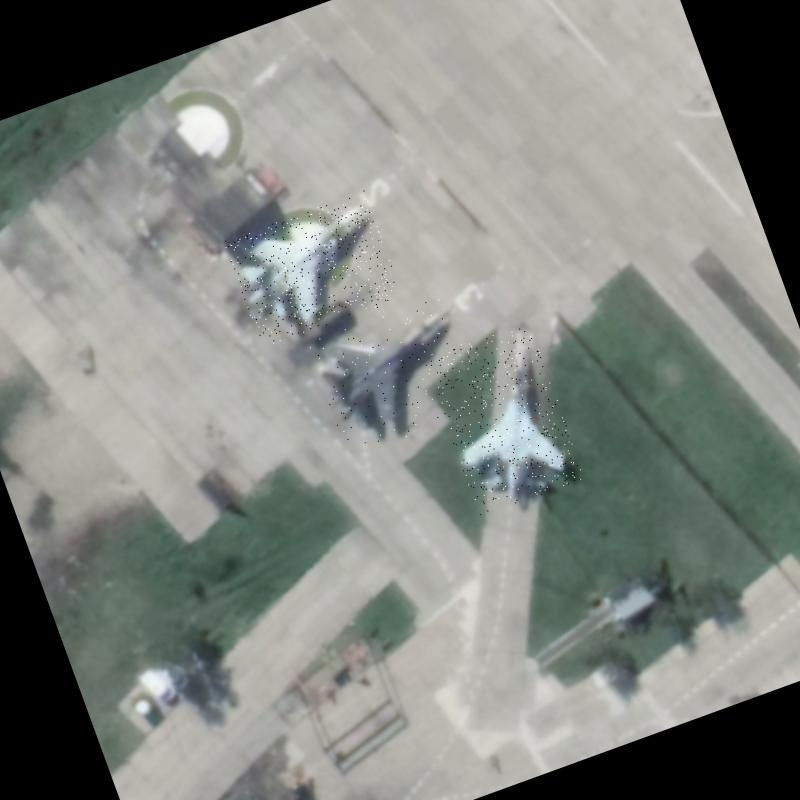A1: (423, 321, 586, 517), (305, 288, 489, 459), (223, 190, 403, 349)
